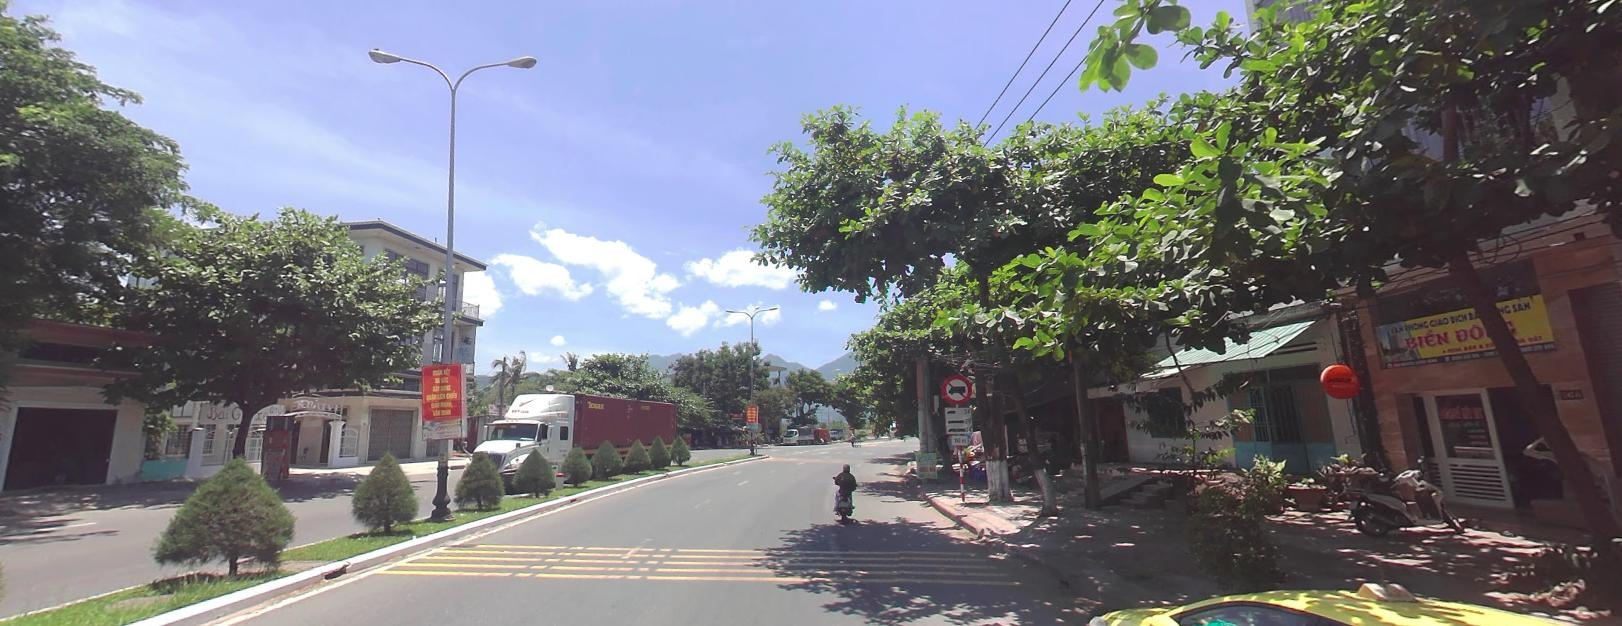Cam con lai: (941, 374, 972, 403)
Cam nguoc chieu: (849, 425, 852, 428)
